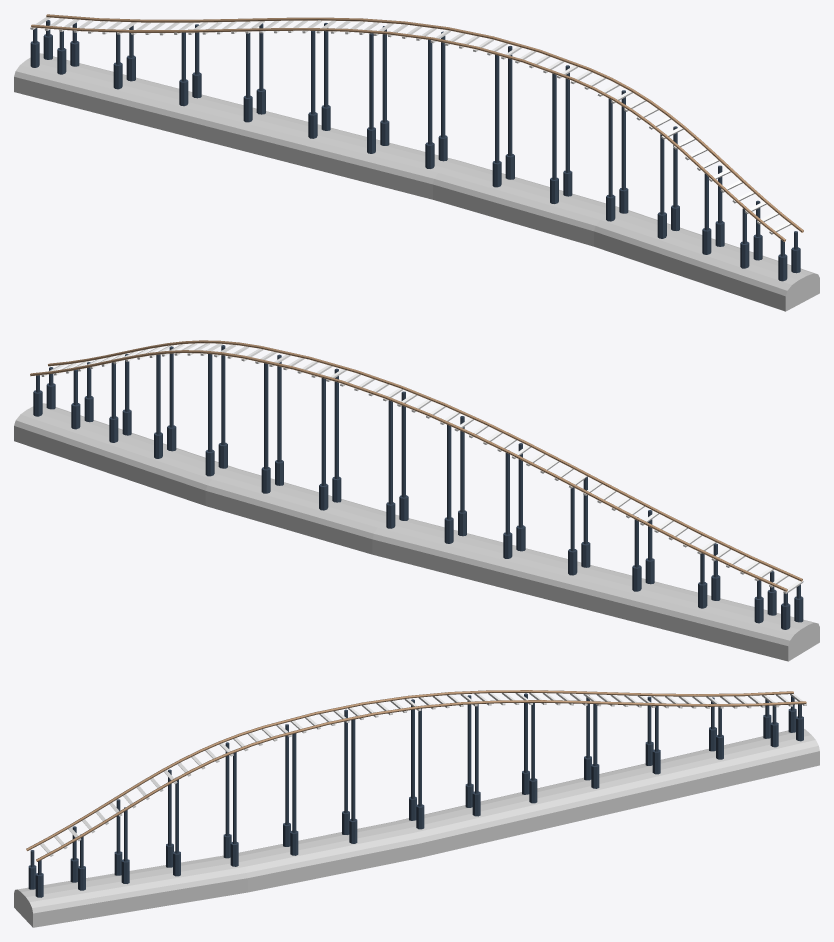
File: RC_Playground.fbx
The picture shows the model from 3 angles, top to bottom: view 1: azimuth 30°, elevation 25°; view 2: azimuth 210°, elevation 25°; view 3: azimuth 270°, elevation 25°; orthographic projection. The views are drawn at different scales.
Parts seen in each view (by area): view 1: Platform.001, Columns.001, Path.001, RailStep.001; view 2: Platform.001, Columns.001, Path.001, RailStep.001; view 3: Platform.001, Columns.001, Path.001, RailStep.001.
Boxes of the visible parts, box(x1,y1,x2,y2) form: Platform.001: box(14, 53, 819, 311); Columns.001: box(30, 20, 800, 281); Path.001: box(31, 14, 803, 241); RailStep.001: box(30, 17, 791, 234); Platform.001: box(14, 403, 819, 661); Columns.001: box(33, 345, 803, 629); Path.001: box(30, 340, 802, 591); RailStep.001: box(41, 343, 803, 593); Platform.001: box(14, 729, 819, 927); Columns.001: box(28, 693, 803, 897); Path.001: box(26, 690, 806, 861); RailStep.001: box(40, 693, 806, 856).
Bounding box in the file's own units: 3401 × 1294 × 6356.
